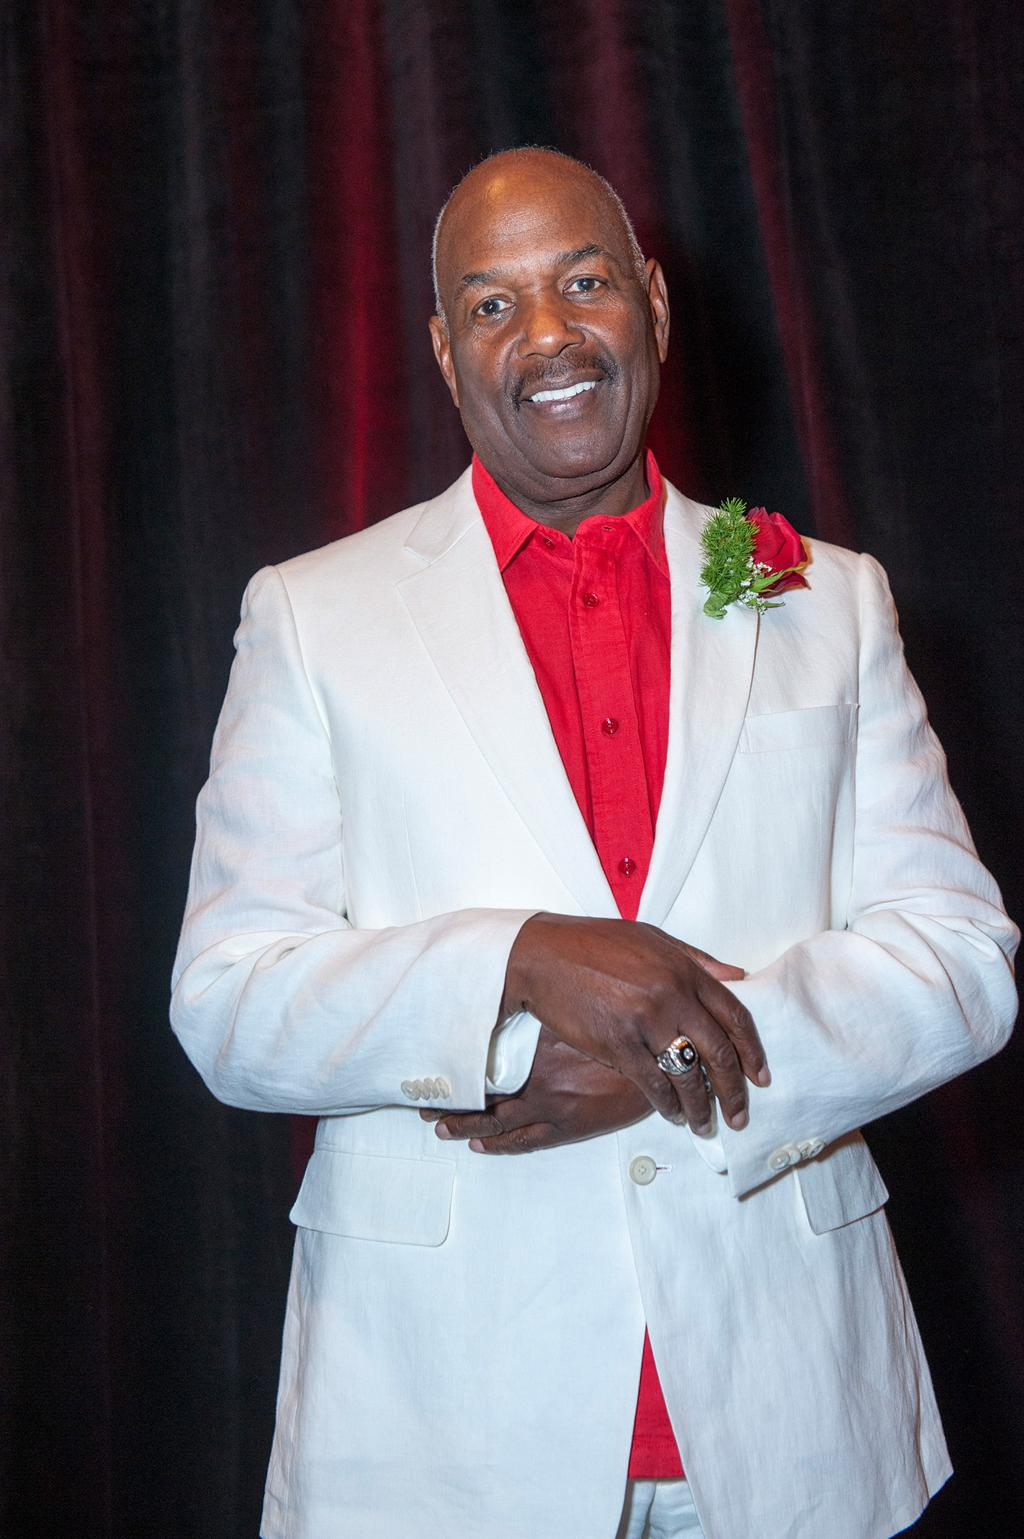face: (441, 153, 660, 483)
